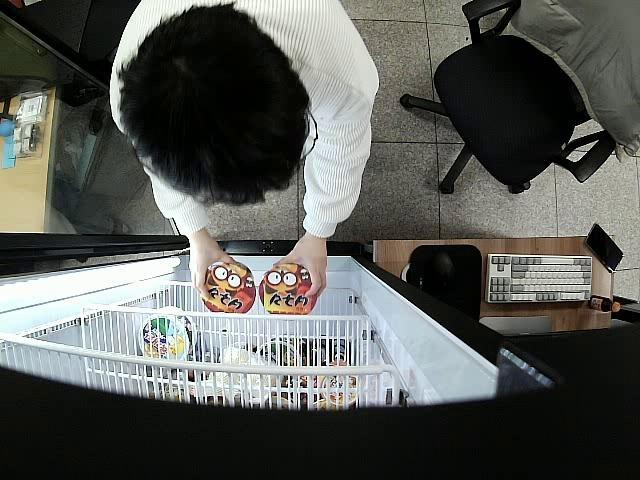05_nuguri_L: (258, 266, 318, 315), (199, 263, 255, 312)
